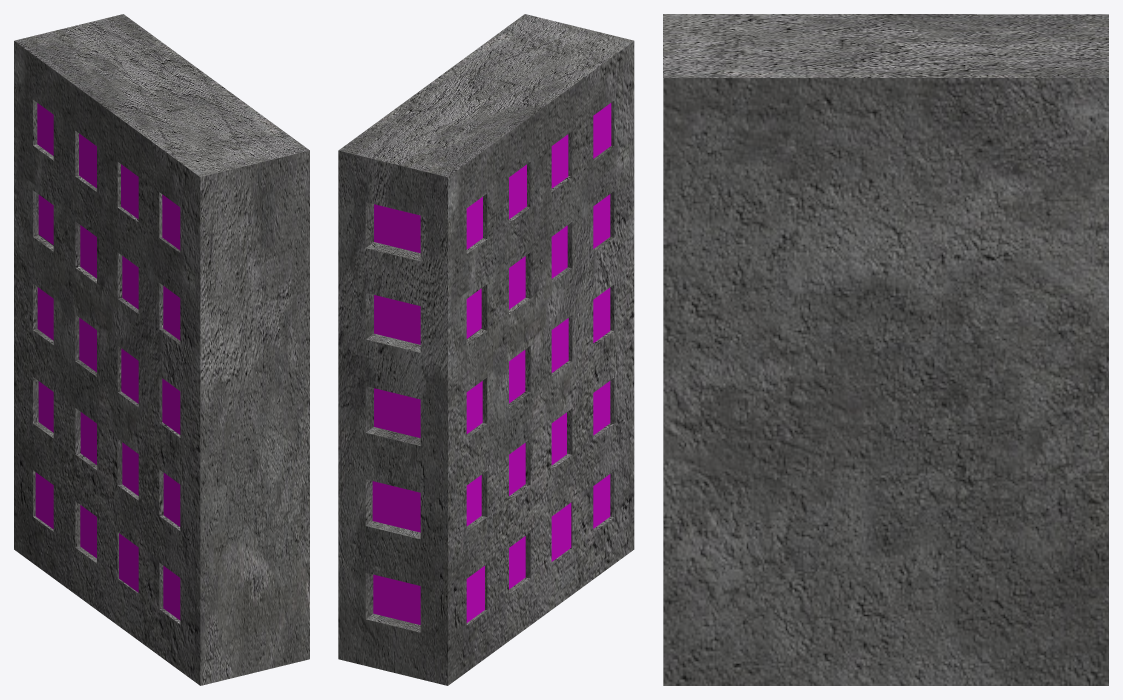
The model's file is DOM1.fbx.
3 views of the same model, side by side, from view 1: azimuth 30°, elevation 25°; view 2: azimuth 150°, elevation 25°; view 3: azimuth 270°, elevation 25° (orthographic). The views are drawn at different scales.
Visible parts, largest first — view 1: Cube, Cube.015, Cube.005, Cube.018, Cube.016, Cube.013, Cube.017, Cube.020, Cube.011, Cube.019, Cube.006, Cube.008 (+9 smaller); view 2: Cube, Cube.024, Cube.025, Cube.023, Cube.022, Cube.021, Cube.015, Cube.005, Cube.016, Cube.018, Cube.013, Cube.017 (+14 smaller); view 3: Cube.
Part boxes in pixels (x1=…): Cube: x1=14, y1=14, x2=309, y2=685; Cube.015: x1=119, y1=533, x2=138, y2=592; Cube.005: x1=35, y1=472, x2=53, y2=529; Cube.018: x1=162, y1=378, x2=180, y2=434; Cube.016: x1=162, y1=194, x2=180, y2=250; Cube.013: x1=121, y1=348, x2=138, y2=403; Cube.017: x1=163, y1=286, x2=180, y2=340; Cube.020: x1=163, y1=566, x2=180, y2=620; Cube.011: x1=121, y1=164, x2=138, y2=219; Cube.019: x1=163, y1=473, x2=180, y2=526; Cube.006: x1=79, y1=133, x2=96, y2=188; Cube.008: x1=79, y1=318, x2=96, y2=372; Cube: x1=338, y1=14, x2=634, y2=685; Cube.024: x1=372, y1=481, x2=420, y2=532; Cube.025: x1=373, y1=574, x2=420, y2=624; Cube.023: x1=374, y1=388, x2=420, y2=437; Cube.022: x1=374, y1=295, x2=420, y2=344; Cube.021: x1=374, y1=204, x2=420, y2=253; Cube.015: x1=551, y1=502, x2=571, y2=561; Cube.005: x1=466, y1=566, x2=484, y2=622; Cube.016: x1=593, y1=103, x2=611, y2=158; Cube.018: x1=593, y1=287, x2=610, y2=342; Cube.013: x1=551, y1=318, x2=568, y2=372; Cube.017: x1=593, y1=194, x2=610, y2=248; Cube: x1=663, y1=14, x2=1108, y2=685.
Bounding box in the file's own units: 544 × 2408 × 1600.
2 materials, 1 textured.
